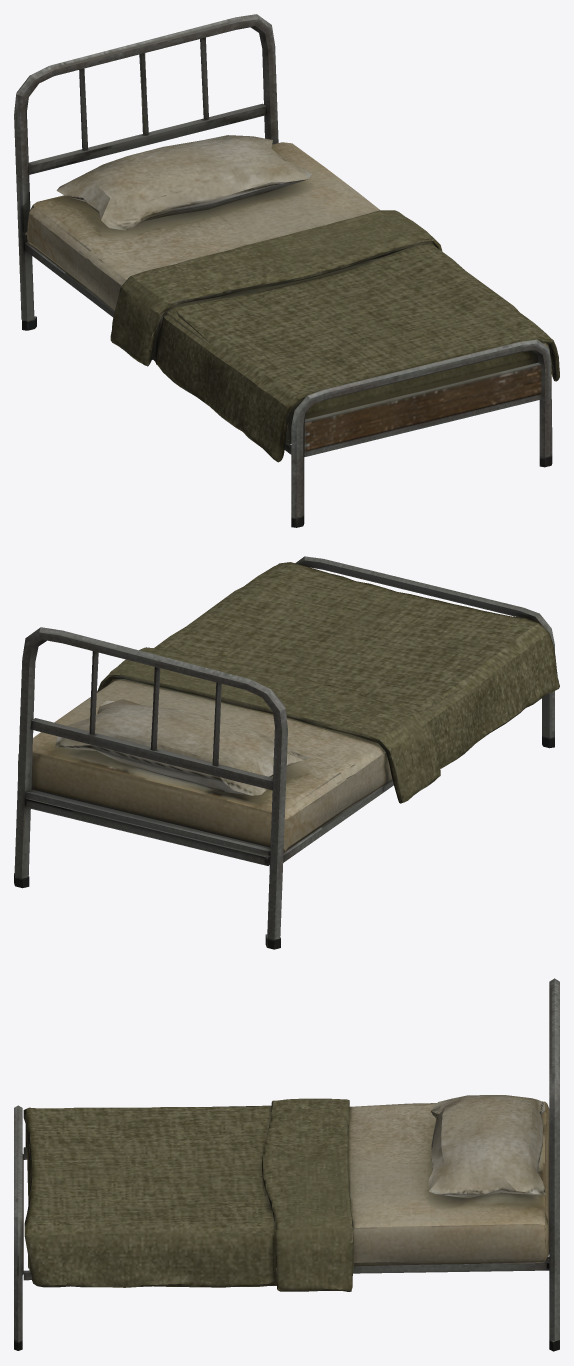
The model's file is E_Bed_LOD0.fbx.
The picture shows the model from 3 angles, top to bottom: view 1: azimuth 30°, elevation 25°; view 2: azimuth 150°, elevation 25°; view 3: azimuth 270°, elevation 25°; orthographic projection. The views are drawn at different scales.
Parts seen in each view (by area): view 1: E_Bed_LOD0; view 2: E_Bed_LOD0; view 3: E_Bed_LOD0.
Boxes of the visible parts, x1,y1,x2,y2 form: E_Bed_LOD0: (14,14,559,527); E_Bed_LOD0: (14,556,559,949); E_Bed_LOD0: (14,978,559,1351).
Size of what is drawn, in the model's own units: 195 by 156 by 298.
1 material, 1 textured.
